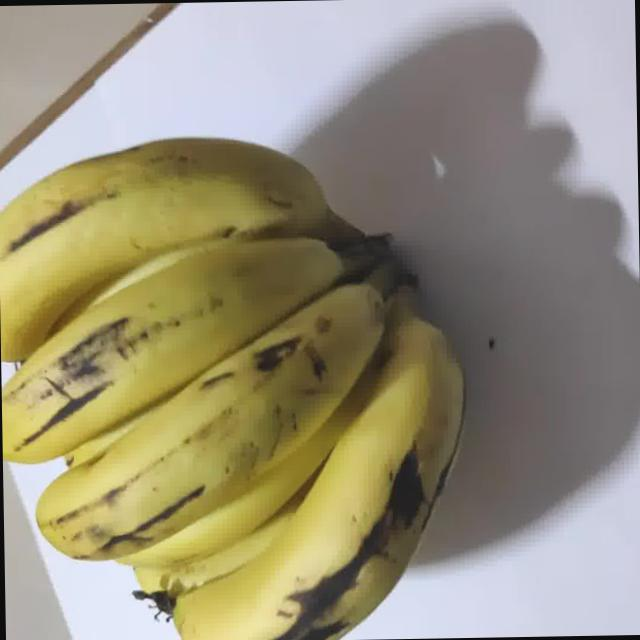banana_pacche: (0, 32, 552, 640)
